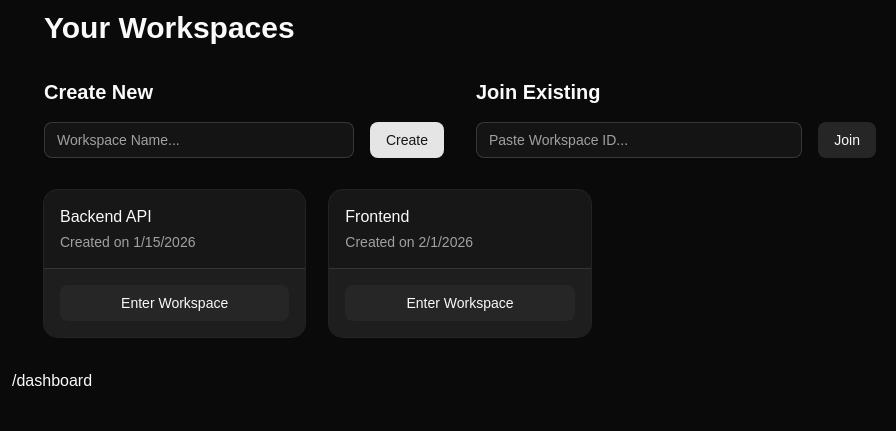
Test: joining a workspace › shows a generic error when the request fails without details
Type "x" into the field with placeholder "Paste Workspace ID...".
click(639, 140); type("x")  # box x1=476 y1=122 x2=802 y2=158
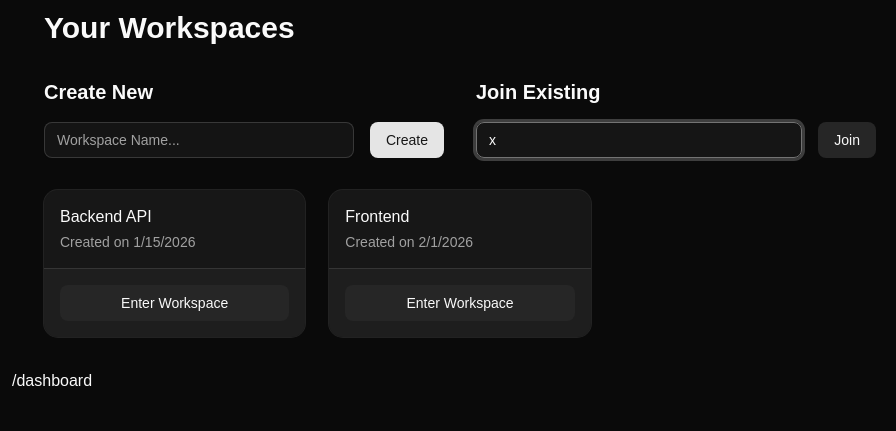
Click the button "Join".
click(847, 140)  # box x1=818 y1=122 x2=876 y2=158
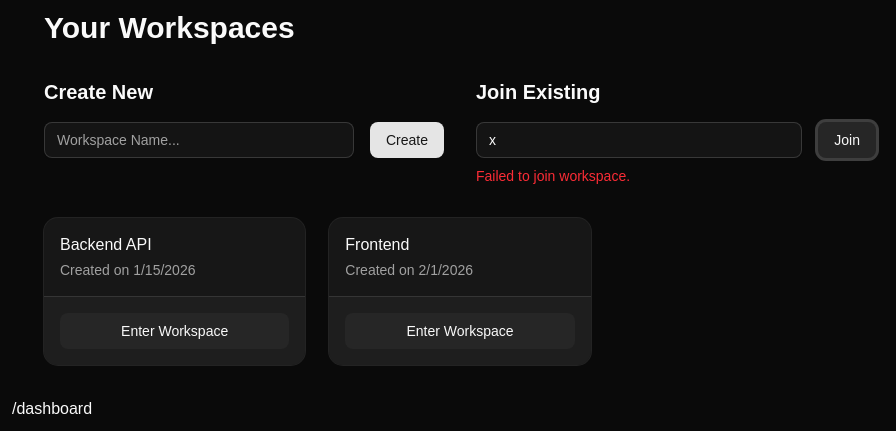
Check: the text "Failed to join workspace." is shown, box x1=476 y1=168 x2=630 y2=184
